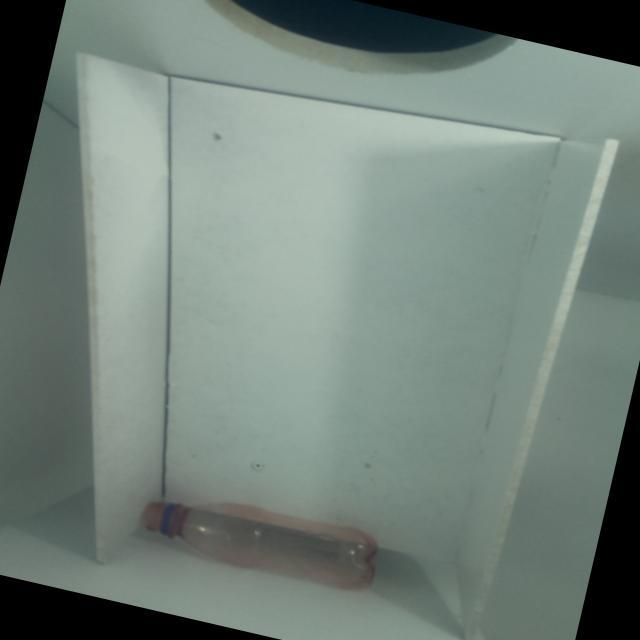good: (101, 460, 413, 618)
